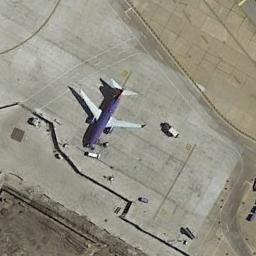Airplane: (70, 75, 151, 147)
